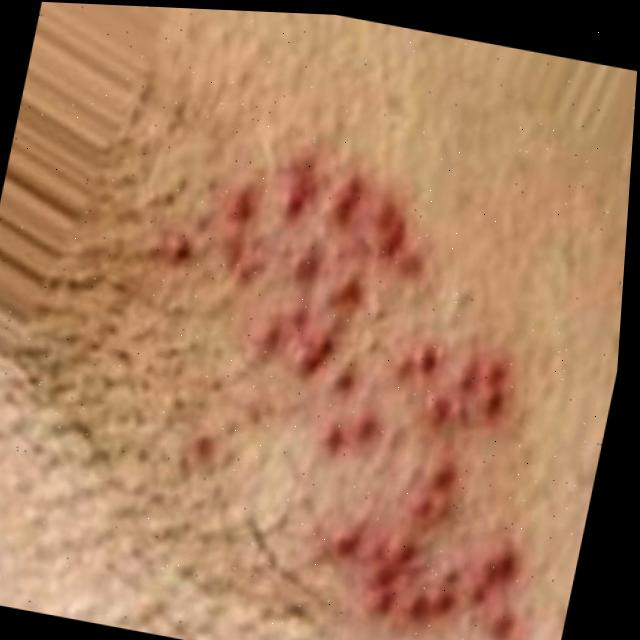Shingles: (90, 137, 612, 640)
